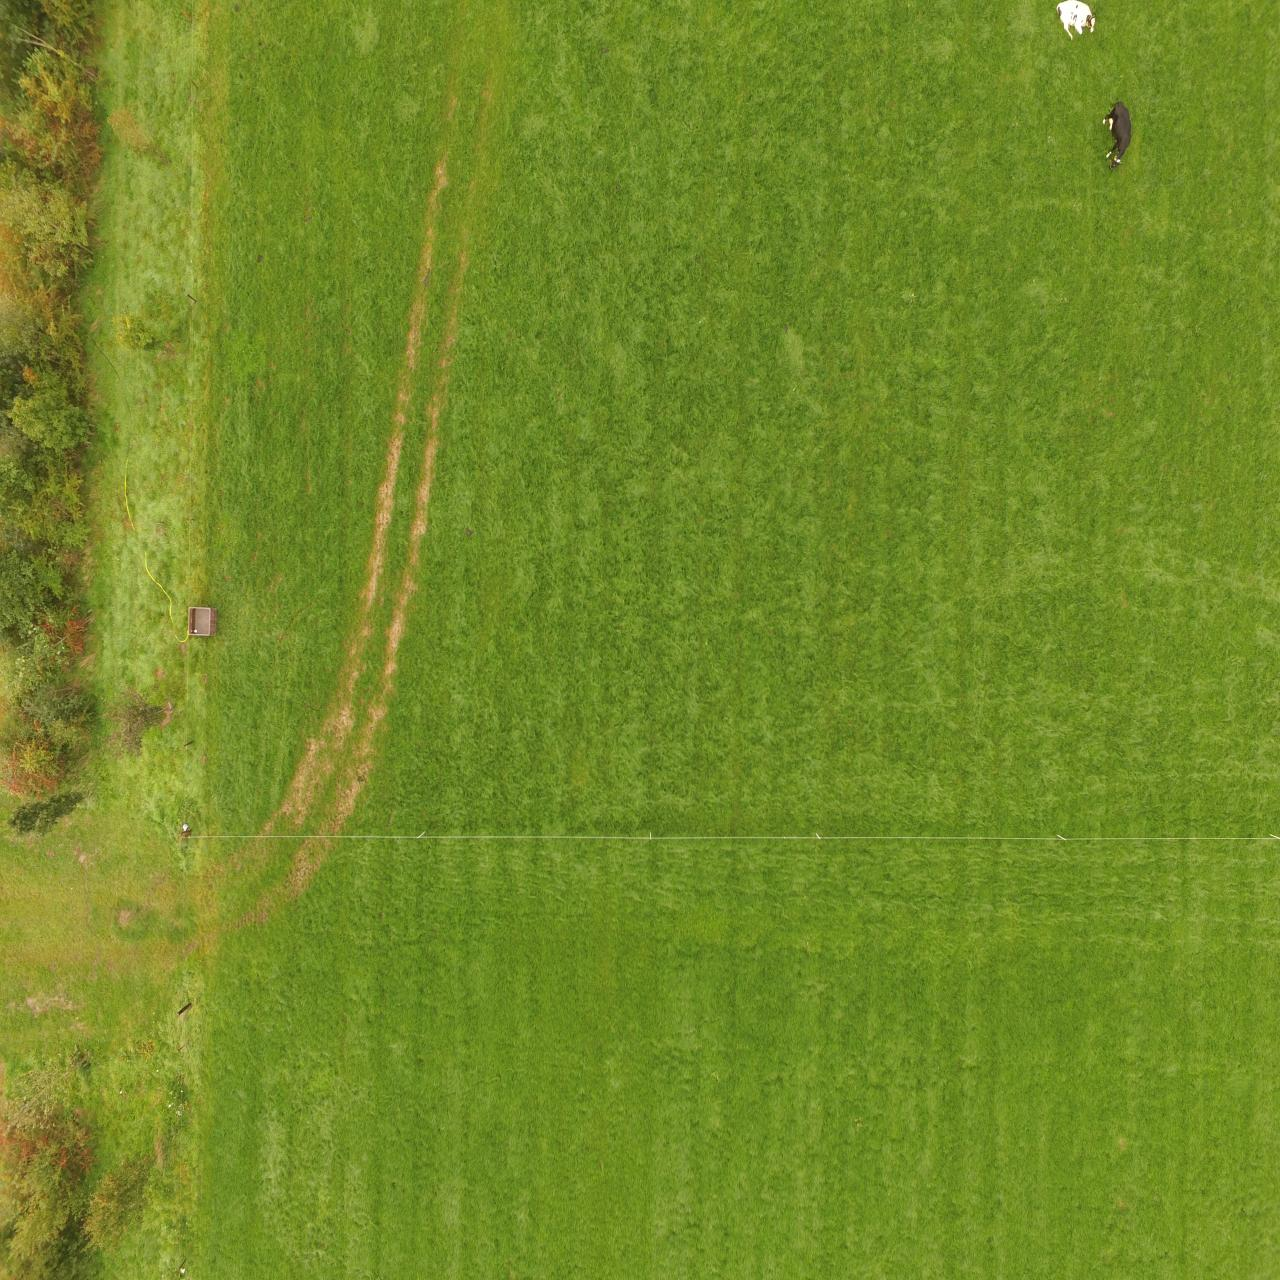cow: (1098, 96, 1135, 171), (1055, 0, 1097, 42)
